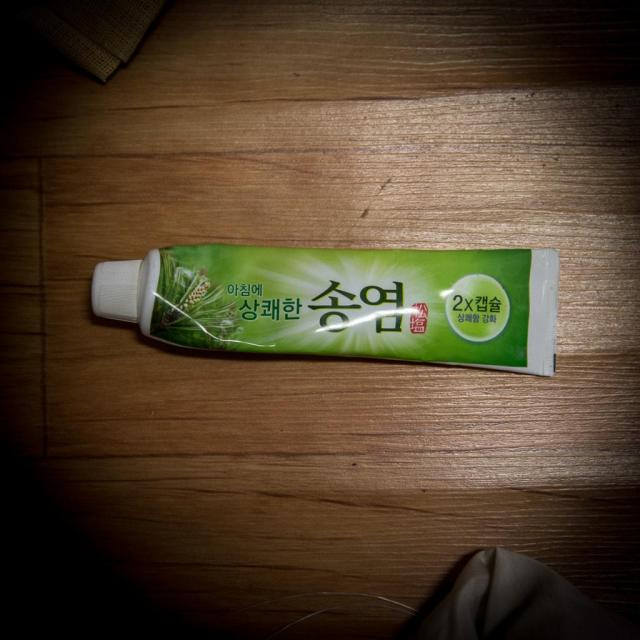Toothpaste: (70, 236, 569, 390)
